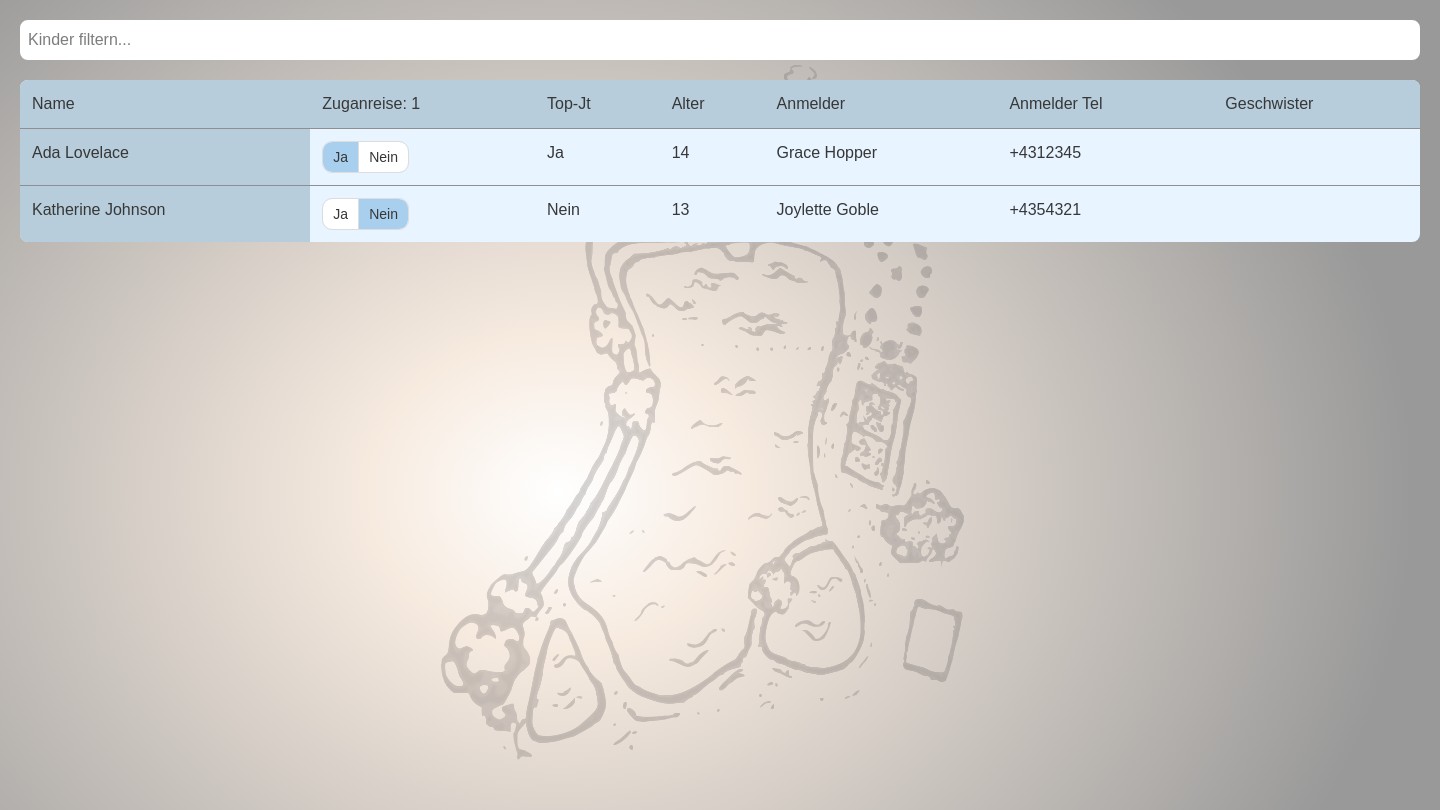
attendance pages › shows every Kind in the editable Zuganreise list but prints only current train arrivals
Click the button "Nein" in the row of "Ada Lovelace" at (384, 157), box [358,141,409,173]
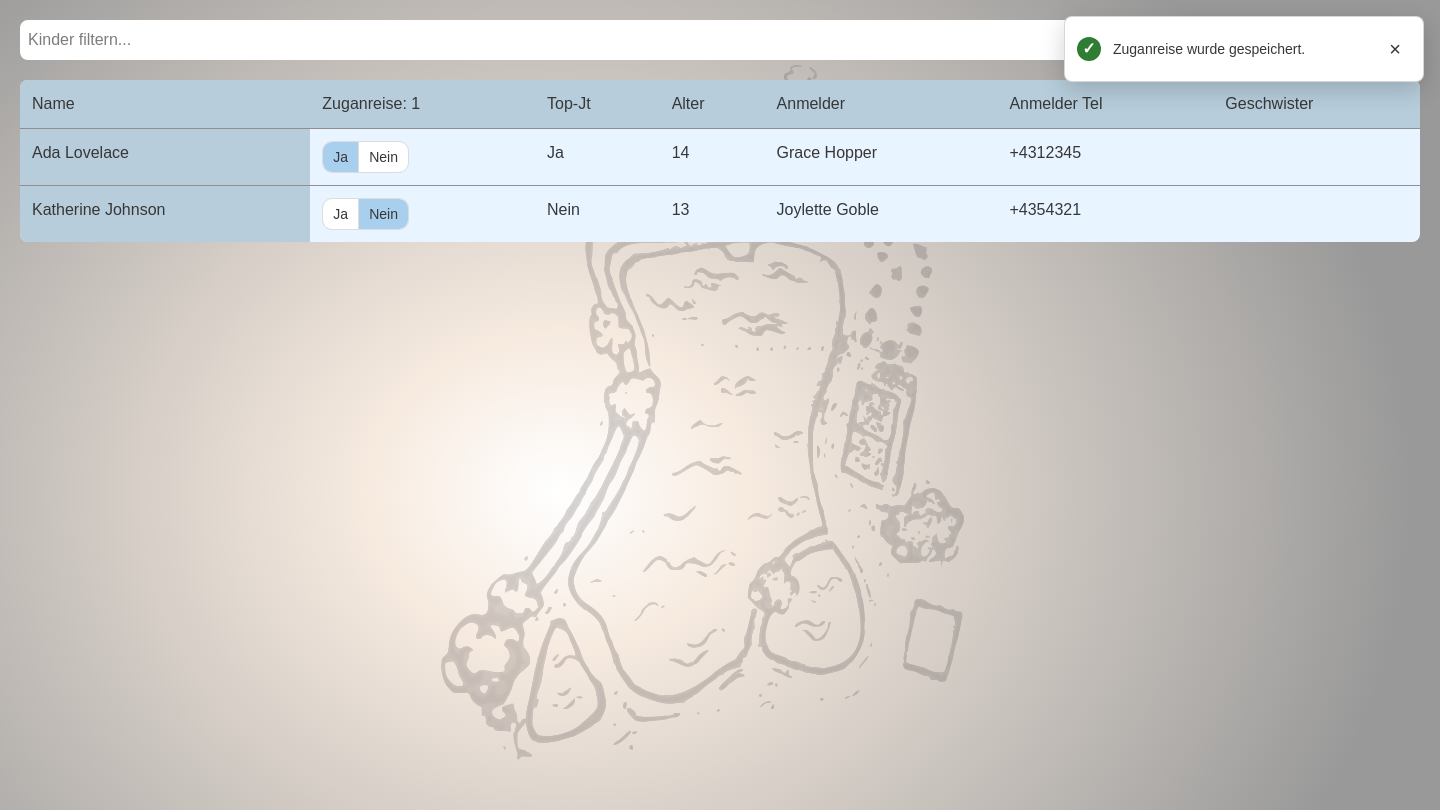
Check: the text "Zuganreise wurde gespeichert." is shown, box [1113,41,1305,57]
